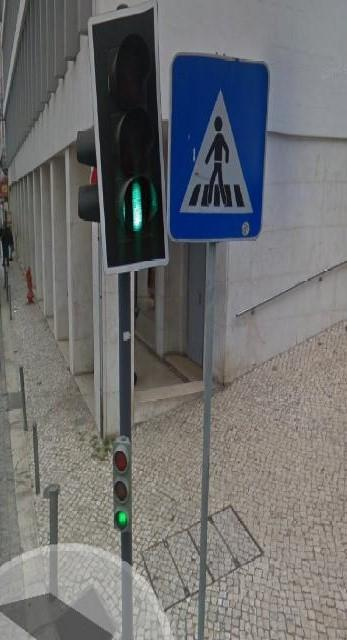green_light: (88, 0, 169, 275), (114, 440, 134, 530)
